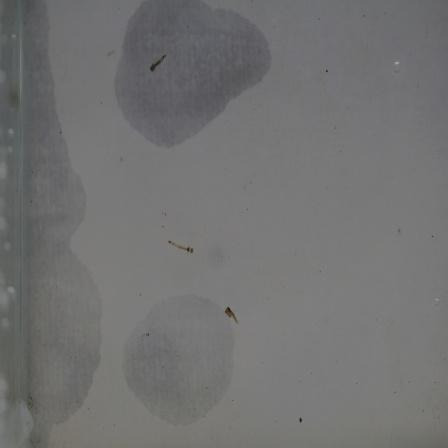Jentik-Nyamuk: (163, 233, 200, 261), (220, 301, 243, 332), (147, 49, 172, 75)
